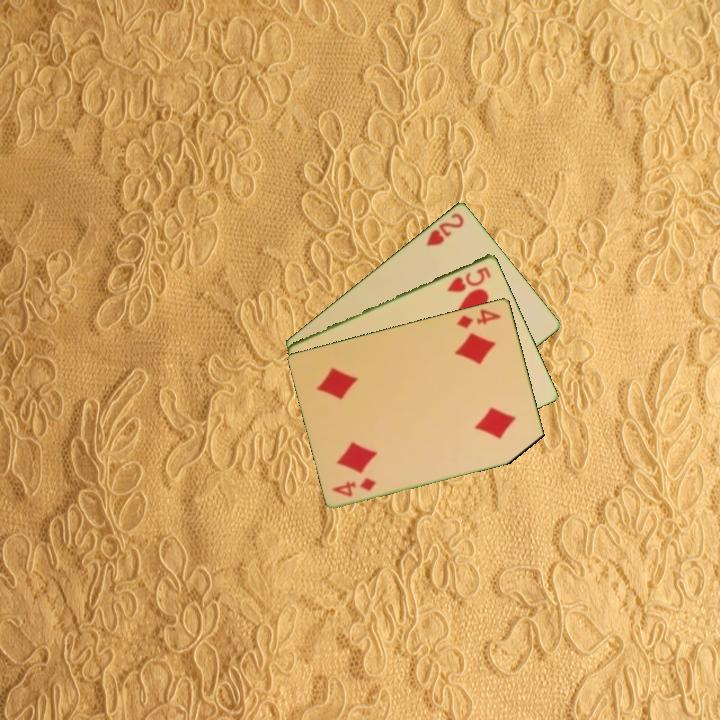2h: (423, 209, 467, 249)
4d: (453, 305, 504, 331), (329, 474, 379, 499)
5h: (443, 263, 494, 295)
